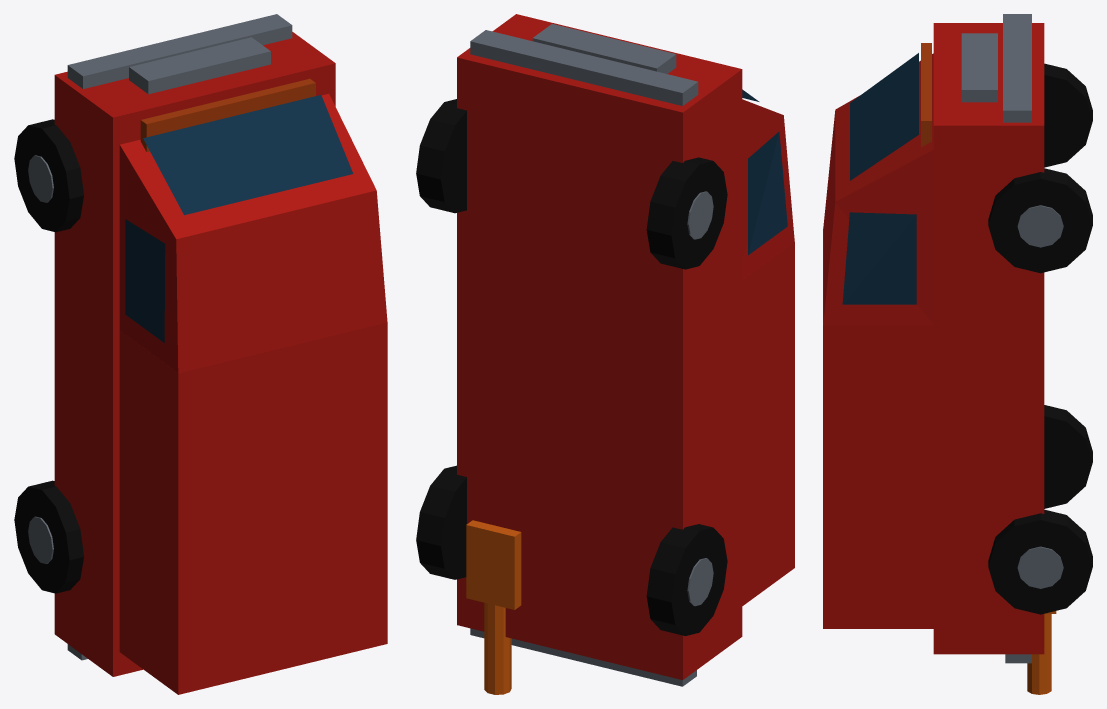
Rendered from p11_civil_van.obj.
3 views of the same model, side by side, from view 1: azimuth 30°, elevation 25°; view 2: azimuth 150°, elevation 25°; view 3: azimuth 270°, elevation 25° (orthographic). The views are drawn at different scales.
Visible parts, largest first — view 1: paint_cargo_body, paint_lower_body, paint_cab, glass_windshield, rubber_left_front_tyre, rubber_left_rear_tyre, metal_front_bumper, metal_front_grille, glass_left_window, engine_bay, metal_left_front_hub, metal_left_rear_hub; view 2: paint_lower_body, paint_cargo_body, metal_front_bumper, rubber_left_rear_tyre, rubber_left_front_tyre, rubber_right_front_tyre, rubber_right_rear_tyre, exhaust_muffler, paint_cab, glass_left_window, metal_front_grille, exhaust_tailpipe (+3 smaller); view 3: paint_lower_body, paint_cargo_body, paint_cab, rubber_right_front_tyre, rubber_right_rear_tyre, glass_right_window, glass_windshield, rubber_left_front_tyre, rubber_left_rear_tyre, metal_front_bumper, metal_front_grille, metal_right_front_hub (+3 smaller).
Part boxes in pixels (bbox=[...]): paint_cargo_body: bbox=[119, 322, 387, 694]; paint_lower_body: bbox=[54, 32, 335, 676]; paint_cab: bbox=[119, 93, 387, 373]; glass_windshield: bbox=[143, 95, 353, 215]; rubber_left_front_tyre: bbox=[14, 119, 83, 232]; rubber_left_rear_tyre: bbox=[14, 480, 83, 593]; metal_front_bumper: bbox=[67, 14, 292, 88]; metal_front_grille: bbox=[129, 37, 270, 94]; glass_left_window: bbox=[125, 219, 165, 342]; engine_bay: bbox=[140, 79, 315, 151]; metal_left_front_hub: bbox=[28, 155, 53, 202]; metal_left_rear_hub: bbox=[28, 516, 53, 563]; paint_lower_body: bbox=[457, 14, 742, 679]; paint_cargo_body: bbox=[742, 242, 794, 605]; metal_front_bumper: bbox=[470, 30, 698, 105]; rubber_left_rear_tyre: bbox=[646, 524, 727, 635]; rubber_left_front_tyre: bbox=[646, 157, 727, 269]; rubber_right_front_tyre: bbox=[416, 99, 466, 213]; rubber_right_rear_tyre: bbox=[416, 465, 466, 579]; exhaust_muffler: bbox=[466, 520, 521, 609]; paint_cab: bbox=[742, 99, 794, 279]; glass_left_window: bbox=[748, 131, 787, 255]; metal_front_grille: bbox=[532, 24, 676, 73]; exhaust_tailpipe: bbox=[484, 602, 511, 694]; paint_lower_body: bbox=[933, 23, 1044, 654]; paint_cargo_body: bbox=[823, 229, 933, 628]; paint_cab: bbox=[823, 53, 933, 325]; rubber_right_front_tyre: bbox=[988, 168, 1092, 273]; rubber_right_rear_tyre: bbox=[988, 509, 1092, 614]; glass_right_window: bbox=[842, 212, 916, 304]; glass_windshield: bbox=[850, 53, 918, 180]; rubber_left_front_tyre: bbox=[1044, 63, 1092, 167]; rubber_left_rear_tyre: bbox=[1044, 405, 1092, 508]; metal_front_bumper: bbox=[1003, 14, 1031, 122]; metal_front_grille: bbox=[961, 33, 997, 102]; metal_right_front_hub: bbox=[1017, 205, 1063, 247].
Bounding box in the file's own units: 2.29 × 5.4 × 2.22.
